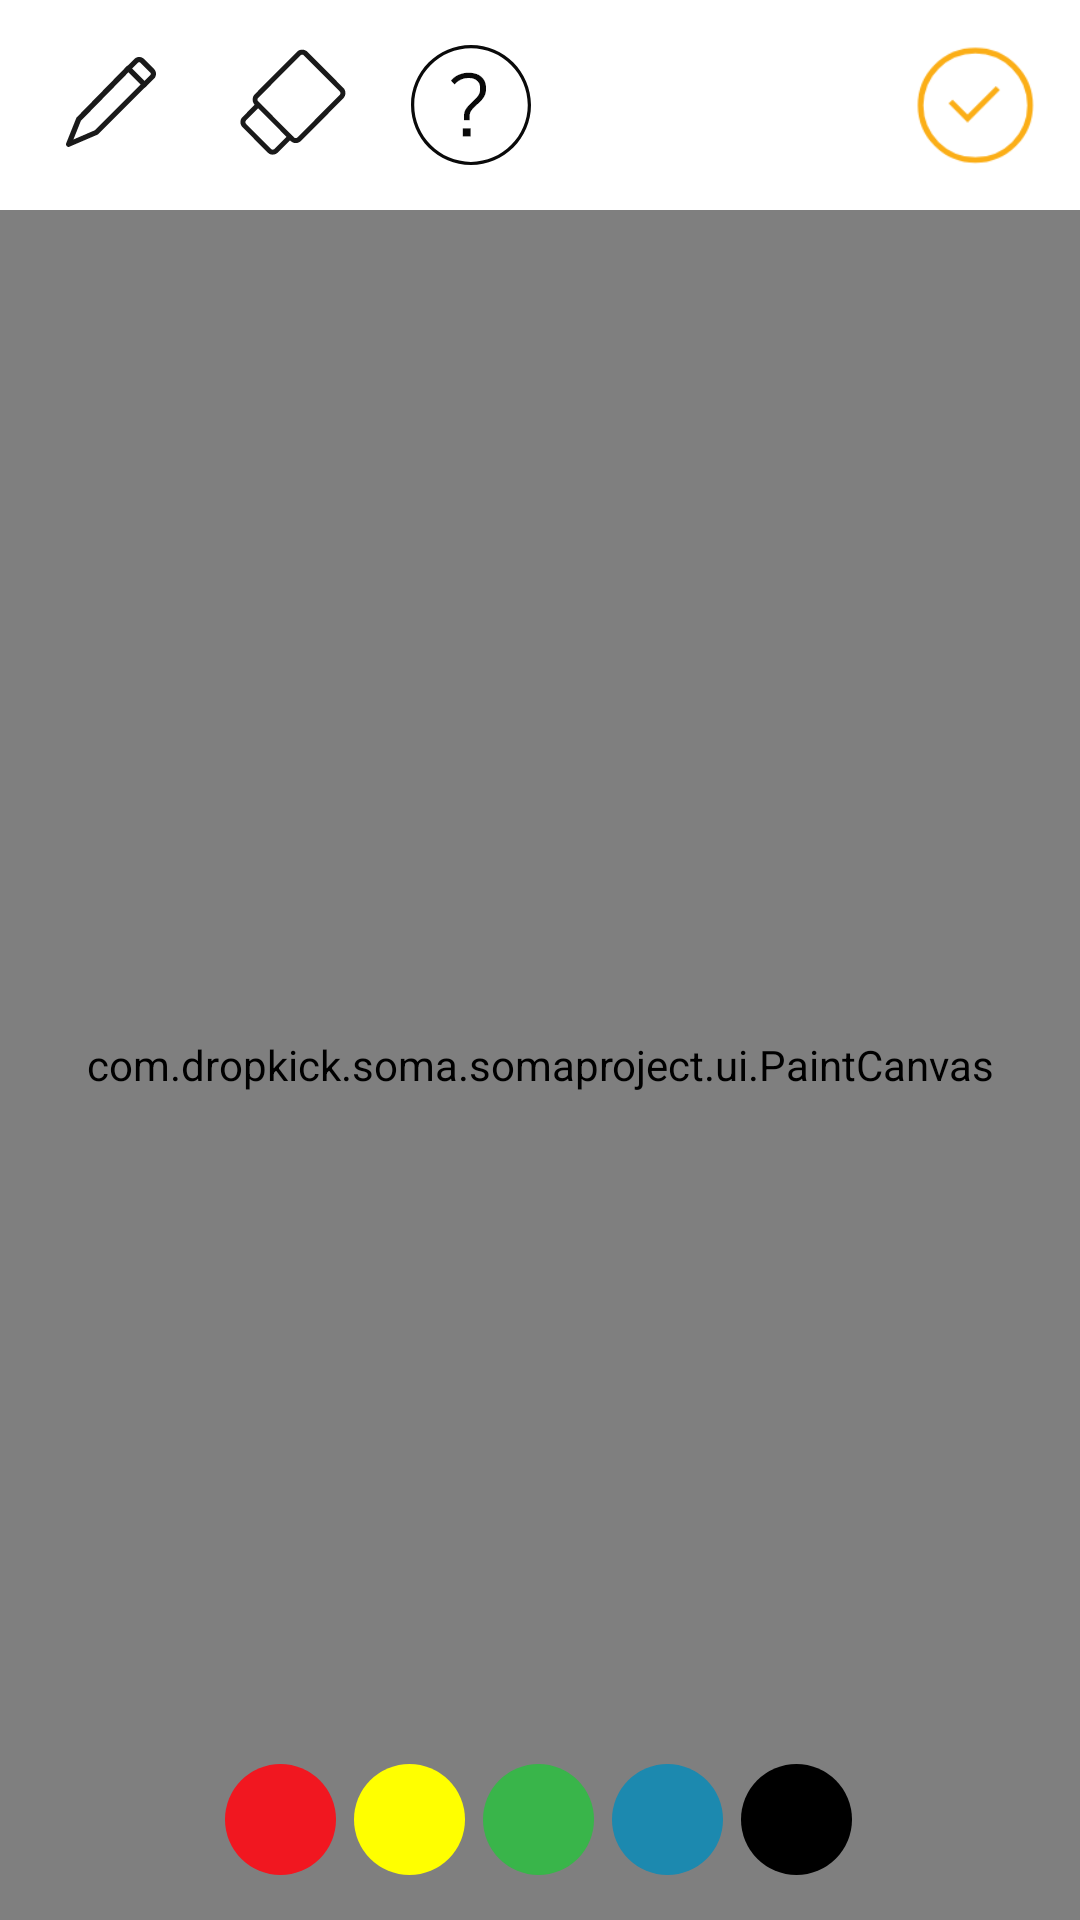

Where to tap for icons on this 1080x1920 app screen, as (x=x, y=y):
check: (x=975, y=105)
drawing question: (x=471, y=105)
eraser: (x=293, y=102)
pen: (x=111, y=102)
